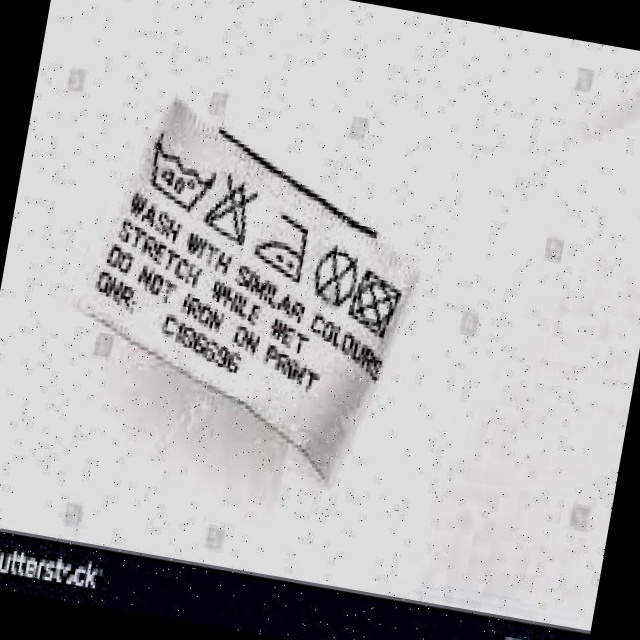40C: (143, 140, 222, 213)
DN_bleach: (204, 169, 262, 245)
DN_dry_clean: (307, 242, 363, 308)
DN_tumble_dry: (346, 266, 407, 342)
iron_medium: (250, 207, 318, 285)
